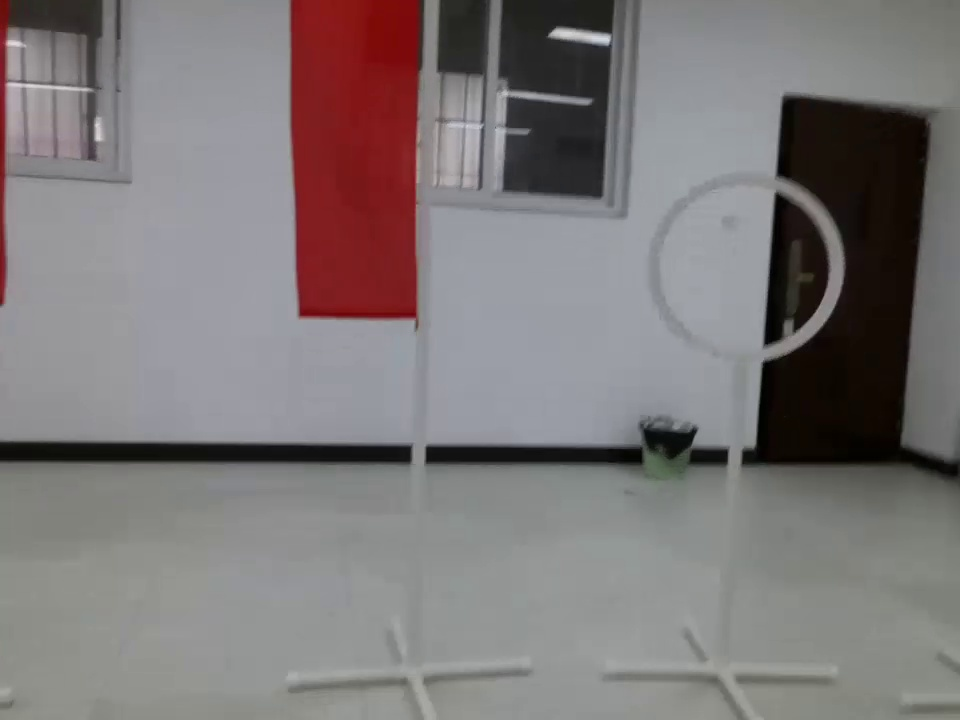qi: (286, 3, 439, 363)
quan: (642, 164, 860, 386)
